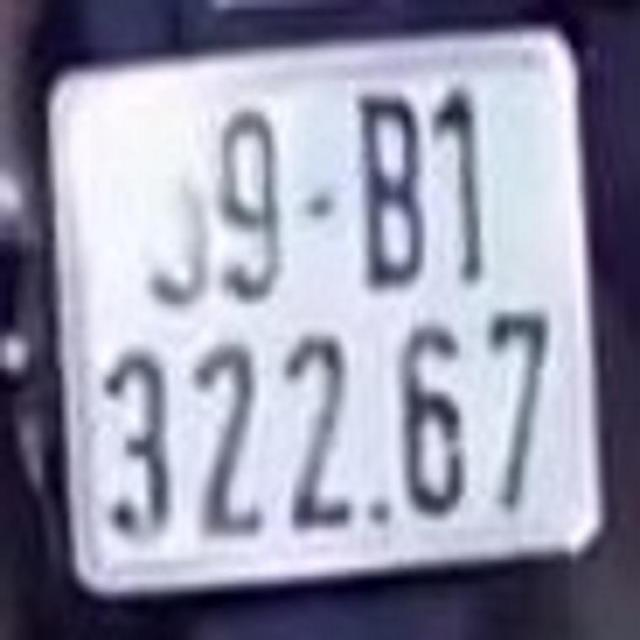1: (430, 84, 487, 279)
2: (283, 331, 353, 528), (194, 341, 265, 534)
3: (102, 349, 173, 538)
6: (130, 103, 212, 300), (398, 320, 469, 513)
7: (485, 306, 551, 521)
9: (223, 106, 285, 313)
B: (356, 89, 427, 289)
